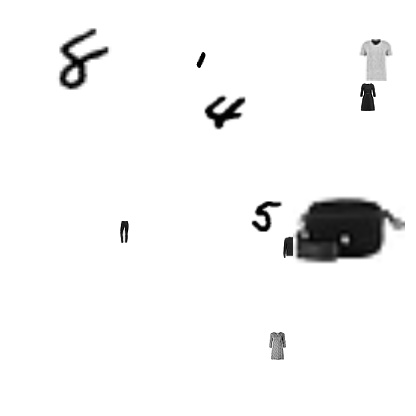1: (190, 49, 212, 71)
4: (195, 83, 251, 139)
5: (243, 194, 285, 236)
8: (36, 17, 120, 101)
Bag: (293, 174, 405, 286)
Dress: (263, 332, 291, 360), (354, 83, 382, 111)
Pullover: (280, 236, 302, 258)
T-shirt/top: (355, 39, 397, 81)
Trouser: (113, 221, 135, 243)
